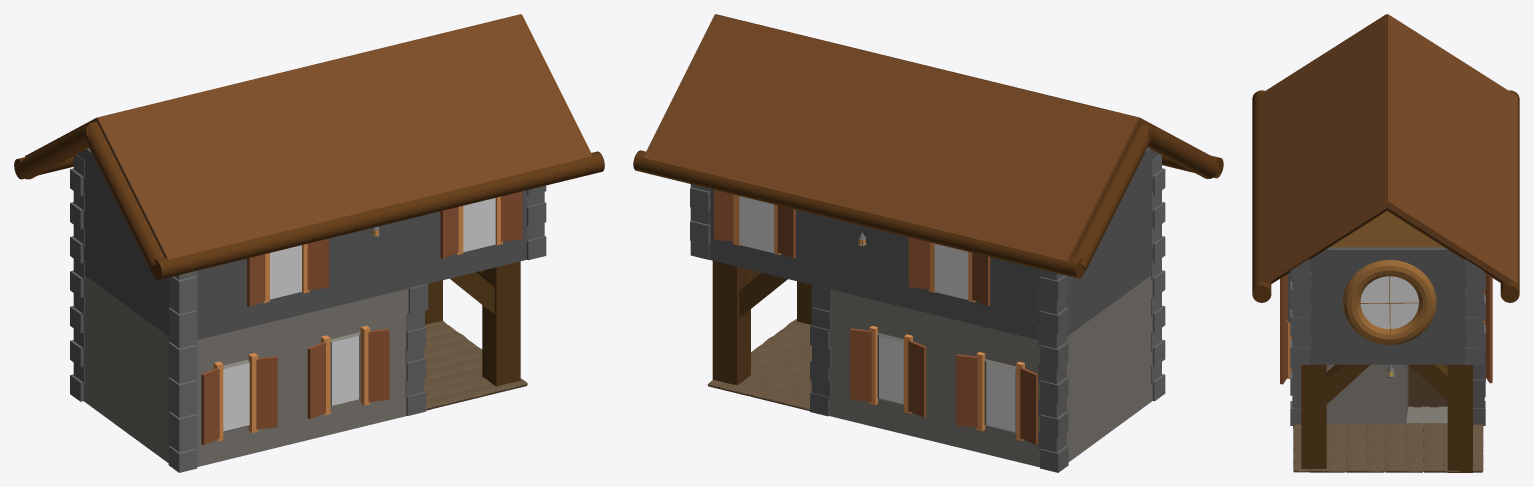
The model's file is huis_project1.fbx.
The picture shows the model from 3 angles, left to right: view 1: azimuth 30°, elevation 25°; view 2: azimuth 150°, elevation 25°; view 3: azimuth 270°, elevation 25°; orthographic projection. The views are drawn at different scales.
Visible parts, largest first — view 1: huis_LOD0; view 2: huis_LOD0; view 3: huis_LOD0.
Part boxes in pixels (x1,y1,x2,y2): huis_LOD0: [14, 14, 604, 472]; huis_LOD0: [633, 14, 1223, 472]; huis_LOD0: [1252, 14, 1519, 472].
Size of what is drawn, in the model's own units: 14.69 by 10.16 by 8.44.
